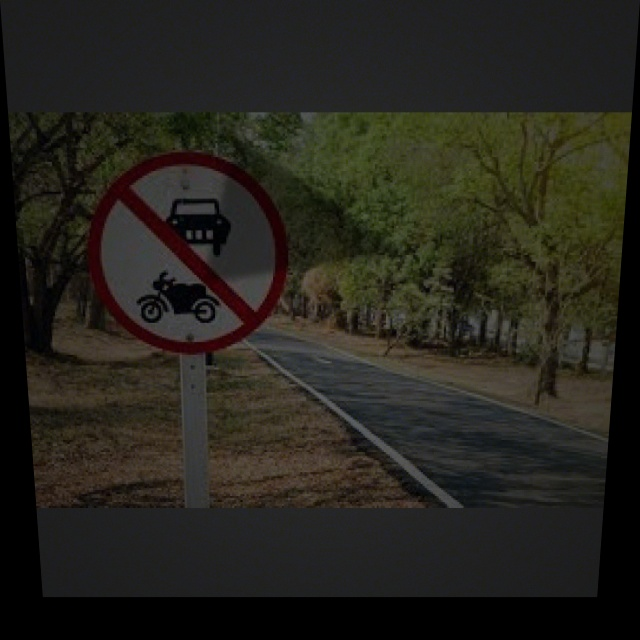All_Motor_Vehicles_Prohibited: (87, 152, 285, 348)
